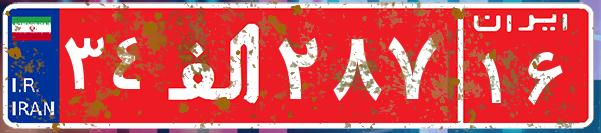1: (475, 38, 525, 113)
2: (273, 28, 330, 110)
3: (57, 26, 110, 107)
4: (110, 28, 158, 105)
6: (525, 38, 570, 115)
7: (385, 28, 445, 110)
8: (330, 28, 385, 110)
الف: (158, 15, 273, 115)
